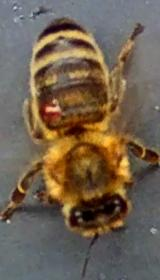varroa_mite: (30, 94, 79, 126)
